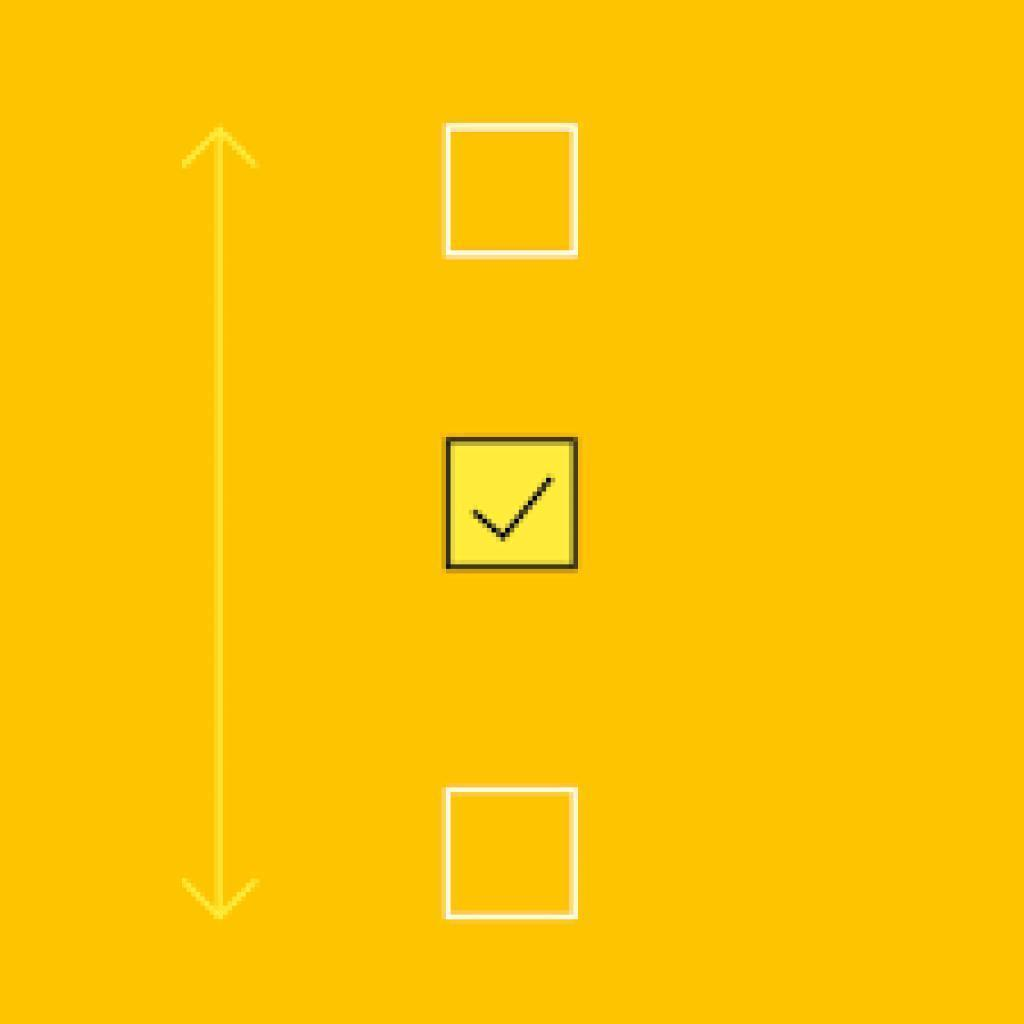checkbox: (447, 440, 579, 569), (450, 127, 578, 258), (449, 791, 578, 917)
